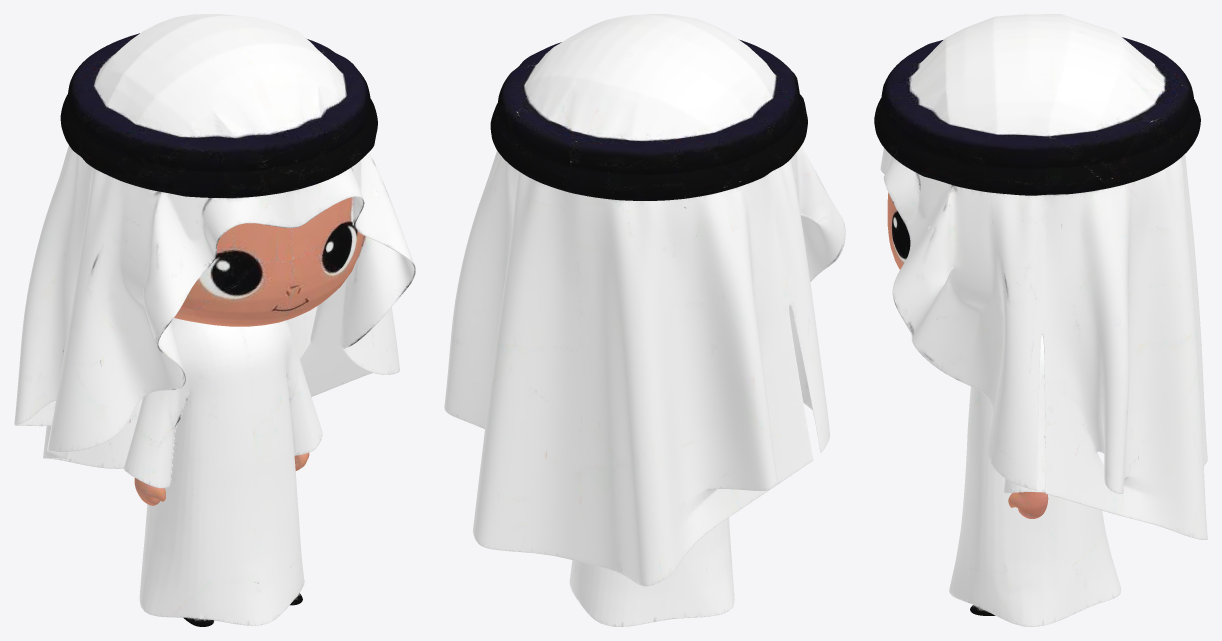
Rendered from rashid-plain.glb.
3 views of the same model, side by side, from view 1: azimuth 30°, elevation 25°; view 2: azimuth 150°, elevation 25°; view 3: azimuth 270°, elevation 25° (orthographic).
Bounding box in the file's own units: 1.21 × 1.9 × 1.02.
1 material, 1 textured.
